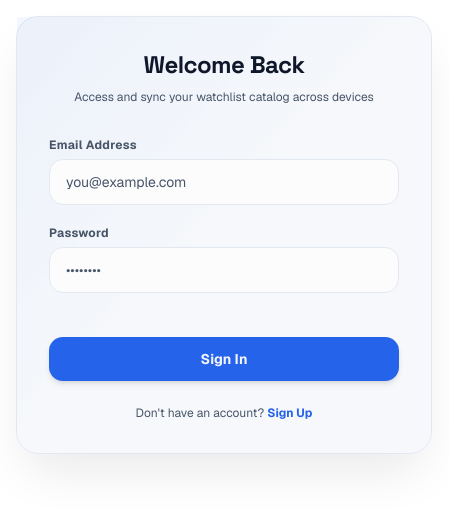
it: Validated Auth Form Component › shows accessible validation error when password is too short
This screenshot has width=449, height=510.
Type "candidate@hirevium.com" into the field labelled "Email Address". click: point(224, 182)
box: [49,159,399,205]
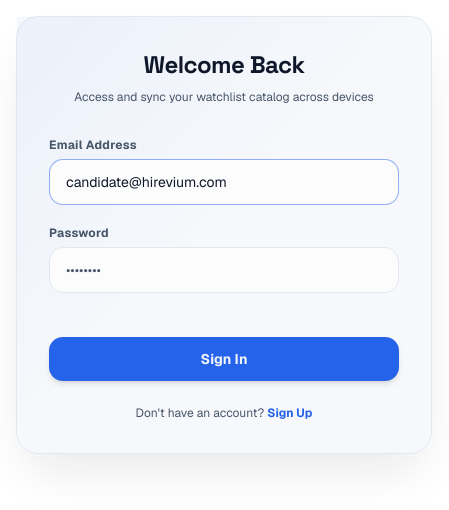
Type "123" into the password field labelled "Password". click: point(224, 270)
box: [49,247,399,293]
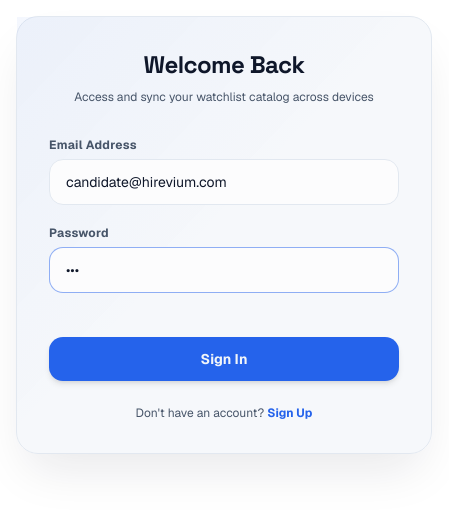
Click the button "Sign In". click: point(224, 359)
box: [49,337,399,381]
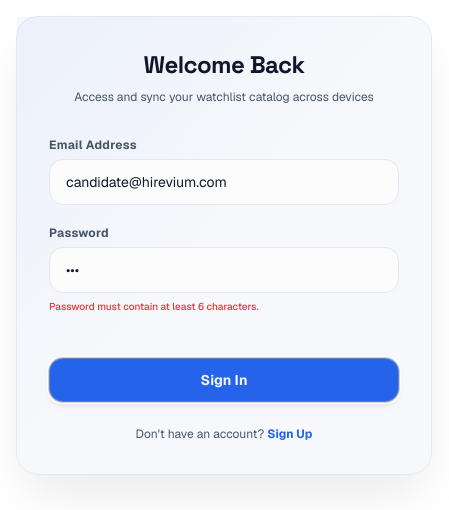
Expected: the text "Password must contain at least 6 characters." is shown, [49,300,259,313]
